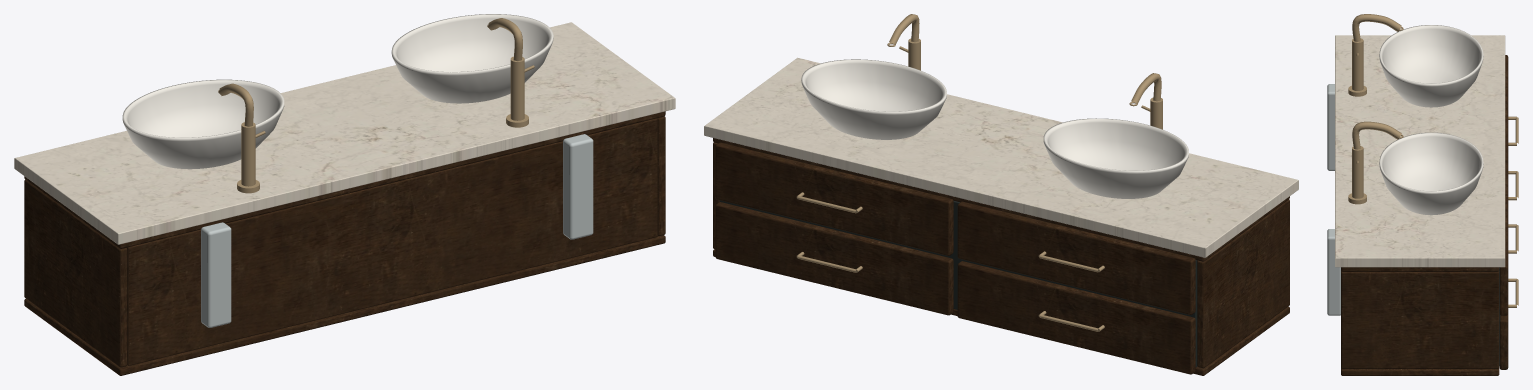
File: bath-double-vanity.glb
The picture shows the model from 3 angles, left to right: view 1: azimuth 30°, elevation 25°; view 2: azimuth 150°, elevation 25°; view 3: azimuth 270°, elevation 25°; orthographic projection. The views are drawn at different scales.
Visible parts, largest first — view 1: walnut_surfaces, stone_surfaces, ceramic_surfaces, steel_surfaces, bronze_surfaces; view 2: walnut_surfaces, stone_surfaces, ceramic_surfaces, bronze_surfaces, dark_surfaces; view 3: stone_surfaces, walnut_surfaces, ceramic_surfaces, bronze_surfaces, steel_surfaces.
Part boxes in pixels (x1=…): walnut_surfaces: x1=24, y1=111, x2=665, y2=375; stone_surfaces: x1=14, y1=22, x2=675, y2=244; ceramic_surfaces: x1=122, y1=14, x2=553, y2=169; steel_surfaces: x1=201, y1=134, x2=593, y2=327; bronze_surfaces: x1=218, y1=18, x2=534, y2=193; walnut_surfaces: x1=713, y1=138, x2=1289, y2=375; stone_surfaces: x1=704, y1=57, x2=1298, y2=257; ceramic_surfaces: x1=801, y1=59, x2=1188, y2=198; bronze_surfaces: x1=796, y1=14, x2=1162, y2=331; dark_surfaces: x1=719, y1=200, x2=1197, y2=367; stone_surfaces: x1=1335, y1=35, x2=1505, y2=267; walnut_surfaces: x1=1341, y1=55, x2=1508, y2=375; ceramic_surfaces: x1=1379, y1=25, x2=1483, y2=215; bronze_surfaces: x1=1348, y1=14, x2=1518, y2=307; steel_surfaces: x1=1327, y1=84, x2=1340, y2=315.
Size of the model in its own units: 1.63 by 0.6779 by 0.5925.
Materials: 6 (2 with a texture image).
